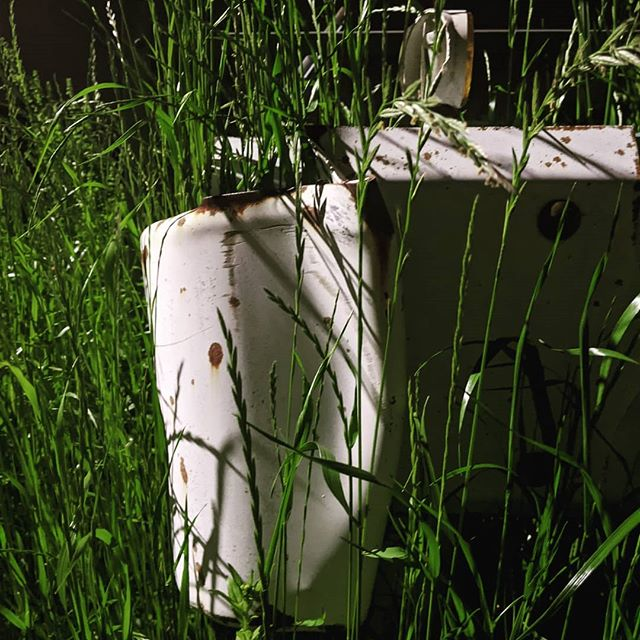trash: (141, 101, 636, 604)
vegetation: (1, 1, 640, 640)
